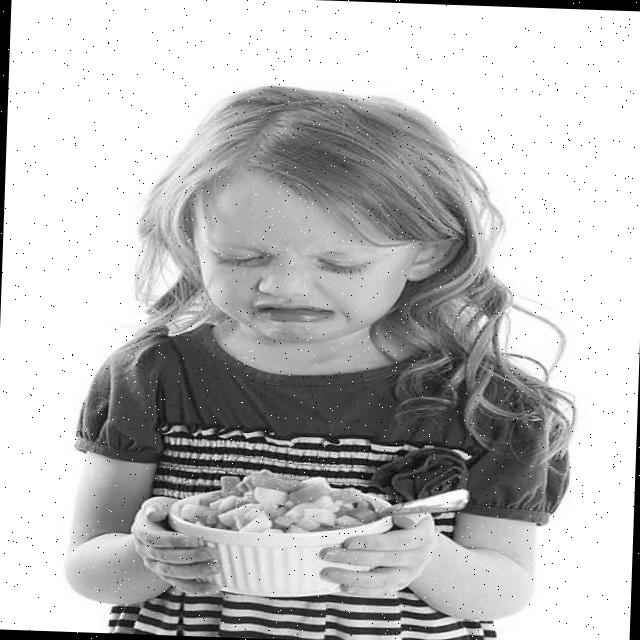Disgust: (188, 167, 411, 347)
